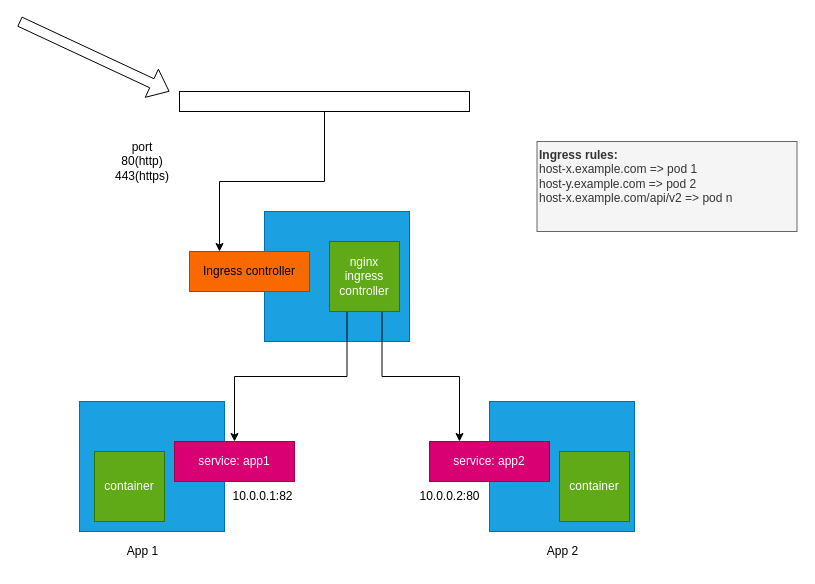
Image size: 815x584. Some labels were removed from this diagram. The box of each missing label's shape, as (x1, y1, x2, y2) in pixels:
Internet: (178, 90, 470, 112)
Pod: (264, 210, 410, 342)
Pod 1: (78, 400, 224, 532)
Pod 2: (488, 400, 634, 532)
